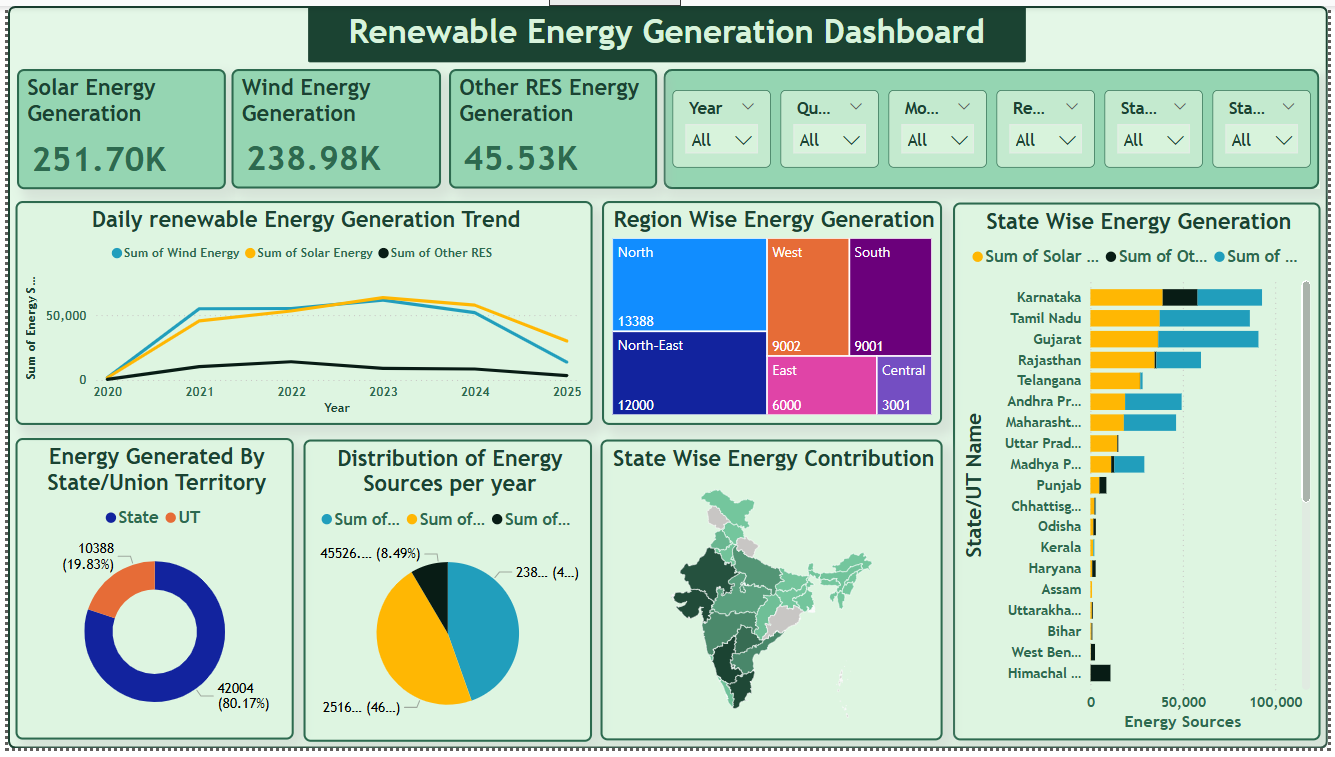

Layout of this report page (visuals, bound fields, positions):
{"tool":"powerbi","page":{"name":"Main Dashboard","canvas":[1280,720],"ordinal":4},"visuals":[{"type":"shape","title":"Renewable Energy Generation Dashboard","box":[0,0,1280.8,720.6],"z":0},{"type":"textbox","box":[291.7,0,696.5,54.5],"z":1000},{"type":"cardVisual","title":"Solar Energy Generation","fields":{"Data":["Sum(data.Solar Energy)"]},"box":[8.5,60.5,202.4,116.6],"z":2000},{"type":"shape","box":[636.4,61.5,636.4,116.6],"z":3000},{"type":"cardVisual","title":"Wind Energy Generation","fields":{"Data":["Sum(data.Wind Energy)"]},"box":[217.6,60.8,203.1,116.2],"z":4000},{"type":"cardVisual","title":"Other RES Energy Generation","fields":{"Data":["Sum(data.Other RES)"]},"box":[427.3,60.8,202.3,116.2],"z":5000},{"type":"slicer","fields":{"Values":["data.Year"]},"box":[644.4,82.2,95,75.6],"z":6000},{"type":"slicer","fields":{"Values":["data.Quarter"]},"box":[749.4,82.2,95,75.6],"z":7000},{"type":"slicer","fields":{"Values":["data.Month Name"]},"box":[854.3,82.2,95,75.6],"z":8000},{"type":"slicer","fields":{"Values":["data.Region"]},"box":[959.2,82.2,95,75.6],"z":9000},{"type":"slicer","fields":{"Values":["data.State/UT"]},"box":[1064.1,82.2,95,75.6],"z":10000},{"type":"slicer","title":"Name","fields":{"Values":["data.State/UT Name"]},"box":[1169.1,82.2,95.5,75.6],"z":11000},{"type":"lineChart","title":"Daily renewable Energy Generation Trend","fields":{"Category":["data.Calendar Day.Variation.Date Hierarchy.Year","data.Calendar Day.Variation.Date Hierarchy.Quarter","data.Calendar Day.Variation.Date Hierarchy.Month","data.Calendar Day.Variation.Date Hierarchy.Day"],"Y":["Sum(data.Wind Energy)","Sum(data.Solar Energy)","Sum(data.Other RES)"]},"box":[7.6,189.7,560,217.3],"z":12000},{"type":"donutChart","title":"Energy Generated By State/Union Territory","fields":{"Category":["data.State/UT"],"Y":["CountNonNull(data.Total Energy Generated)"]},"box":[7.6,419.5,270.2,292.9],"z":13000},{"type":"treemap","title":"Region Wise Energy Generation","fields":{"Group":["data.Region"],"Values":["CountNonNull(data.Total Energy Generated)"]},"box":[577.1,189.7,330,217.3],"z":14000},{"type":"barChart","title":"State Wise Energy Generation","fields":{"Category":["data.Name Of The Region"],"Y":["Sum(data.Solar Energy)","Sum(data.Other RES)","Sum(data.Wind Energy)"]},"box":[916.7,190,356.7,522.2],"z":15000},{"type":"pieChart","title":"Distribution of Energy Sources per year","fields":{"Y":["Sum(data.Wind Energy)","Sum(data.Solar Energy)","Sum(data.Other RES)"]},"box":[286.7,420,280,293.3],"z":16000},{"type":"shapeMap","title":"State Wise Energy Contribution","fields":{"Category":["data.Name Of The Region"],"Value":["Sum(data.Solar Energy)"]},"box":[575.6,420,332.2,292.2],"z":17000}]}

Visuals, with their boxes in screenshot pixels (x1, y1, x2, y2), scaled from the page's 1280x720 canvas onto the 1335x757 screenshot:
"Renewable Energy Generation Dashboard" shape: bbox(0, 0, 1334, 756)
textbox: bbox(304, 0, 1031, 57)
"Solar Energy Generation" cardVisual: bbox(9, 64, 220, 186)
shape: bbox(664, 65, 1327, 187)
"Wind Energy Generation" cardVisual: bbox(227, 64, 439, 186)
"Other RES Energy Generation" cardVisual: bbox(446, 64, 657, 186)
slicer - data.Year: bbox(672, 86, 771, 166)
slicer - data.Quarter: bbox(782, 86, 881, 166)
slicer - data.Month Name: bbox(891, 86, 990, 166)
slicer - data.Region: bbox(1000, 86, 1099, 166)
slicer - data.State/UT: bbox(1110, 86, 1209, 166)
"Name" slicer: bbox(1219, 86, 1319, 166)
"Daily renewable Energy Generation Trend" lineChart: bbox(8, 199, 592, 428)
"Energy Generated By State/Union Territory" donutChart: bbox(8, 441, 290, 749)
"Region Wise Energy Generation" treemap: bbox(602, 199, 946, 428)
"State Wise Energy Generation" barChart: bbox(956, 200, 1328, 749)
"Distribution of Energy Sources per year" pieChart: bbox(299, 442, 591, 750)
"State Wise Energy Contribution" shapeMap: bbox(600, 442, 947, 749)
